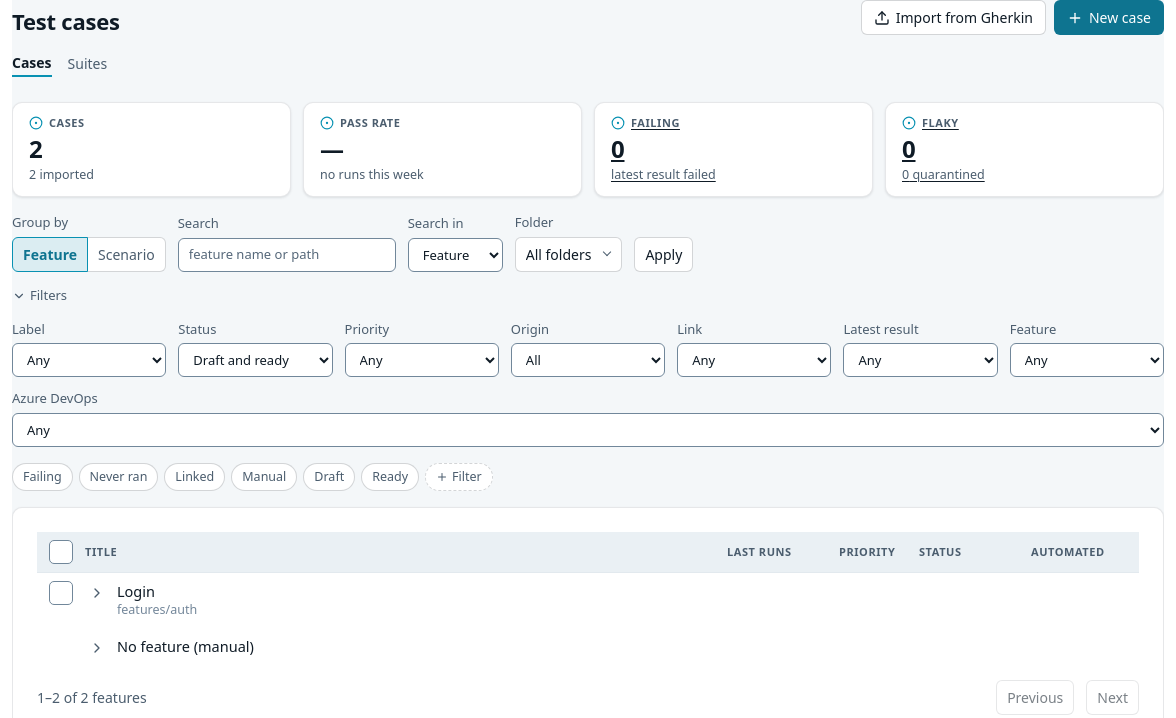
Test case: feature and scenario rows share one table with the Scenario view's columns
Check: the link "Login" is shown, box [117, 581, 155, 601]
Click the button named "Show scenarios of Login" at (97, 593), box [85, 581, 109, 605]
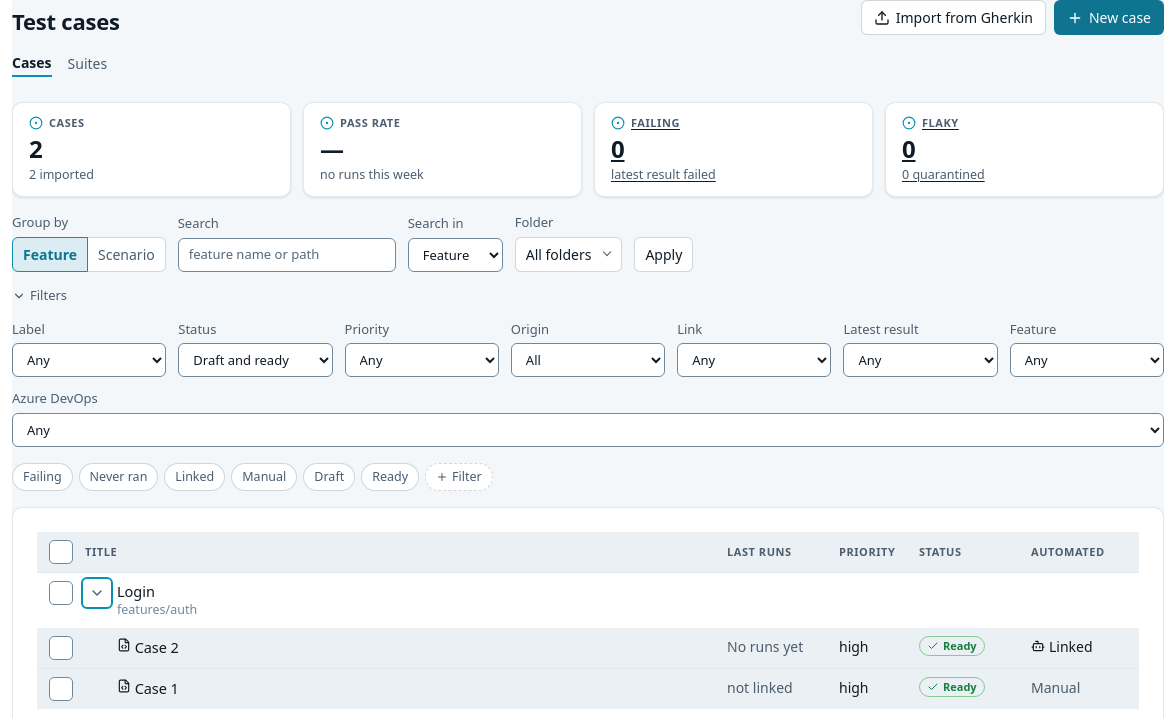
Check: the column headings read "", "Title", "Last runs", "Priority", "Status", "Automated", in this order, box [37, 532, 73, 572]; [73, 532, 715, 572]; [715, 532, 827, 572]; [827, 532, 907, 572]; [907, 532, 1019, 572]; [1019, 532, 1139, 572]
Check: the cell "high" in the row of "Case 2" is shown, box [839, 637, 868, 656]
Check: the cell "Linked" is shown, box [1019, 628, 1139, 669]
